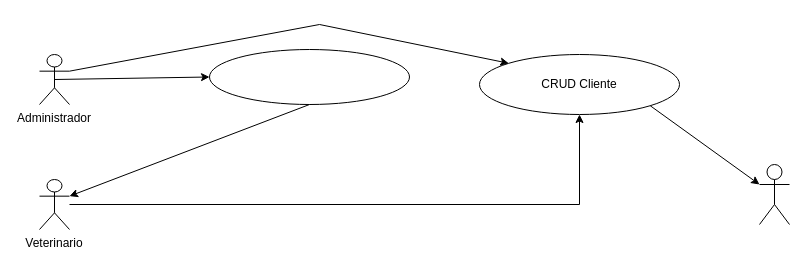
The diagram is 810 pixels wide and 268 high, and some of its shapes have lost their labels. The shapes that lost their labels are listed below. From the top down, each one's box as (x1, y1, x2, y2) in pixels, then its label:
(208, 48, 410, 104): CRUD Veterinario
(758, 164, 790, 224): Cliente
